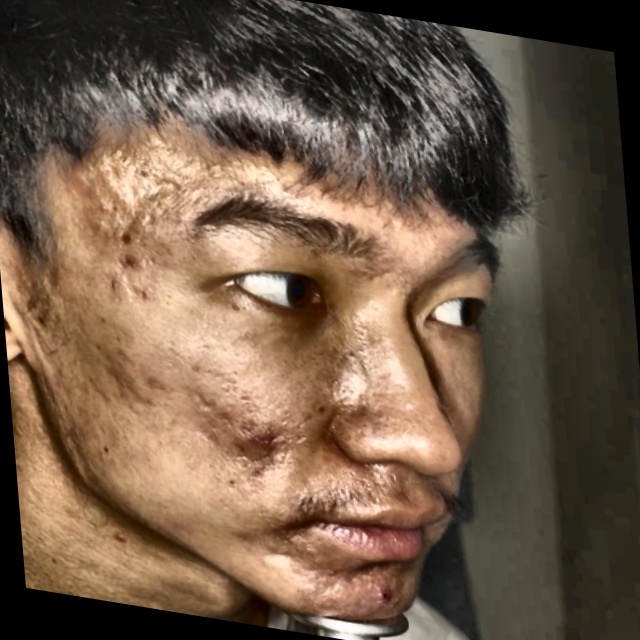comedone: (231, 425, 280, 470), (357, 574, 396, 610), (105, 244, 146, 276)
